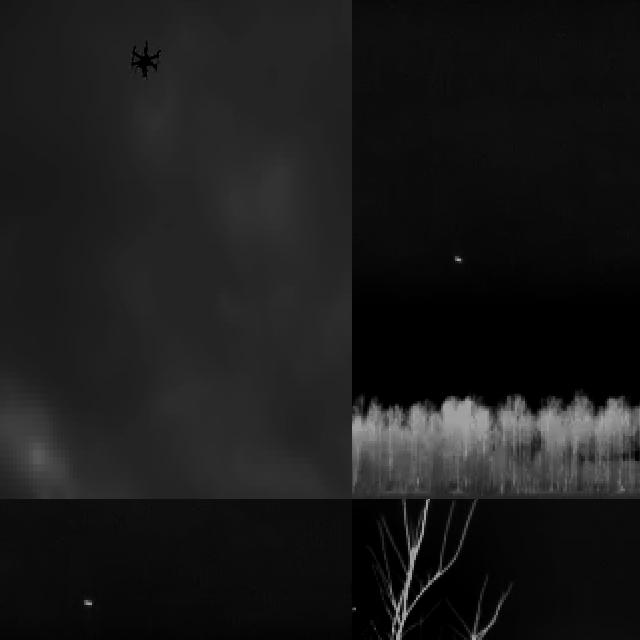1: (79, 590, 103, 615), (450, 247, 472, 270)
drone: (125, 30, 162, 83)
